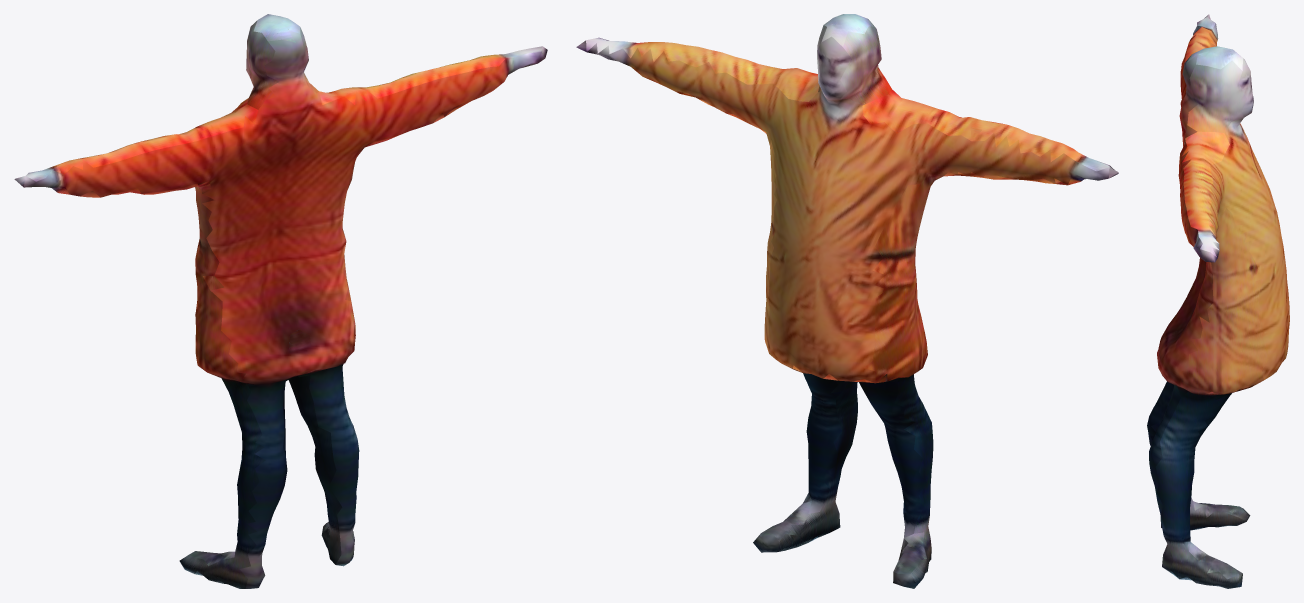
3 renders of one model, left to right at view 1: azimuth 30°, elevation 25°; view 2: azimuth 150°, elevation 25°; view 3: azimuth 270°, elevation 25°, orthographic. The views are drawn at different scales.
Parts seen in each view (by area): view 1: world; view 2: world; view 3: world.
Part boxes in pixels (box(x1,y1,x2,y2)): world: box(14, 14, 547, 588); world: box(576, 14, 1118, 588); world: box(1147, 14, 1289, 588).
Bounding box in the file's own units: 1.03 × 0.9984 × 0.2556.
Materials: 1 (1 with a texture image).
